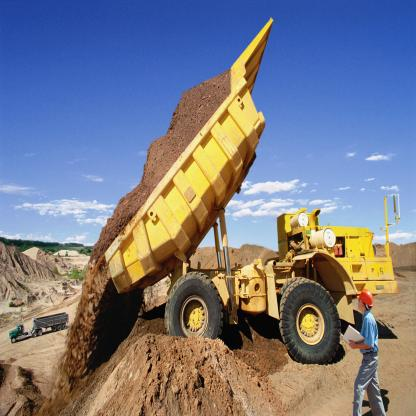dump_truck: (101, 13, 403, 372)
